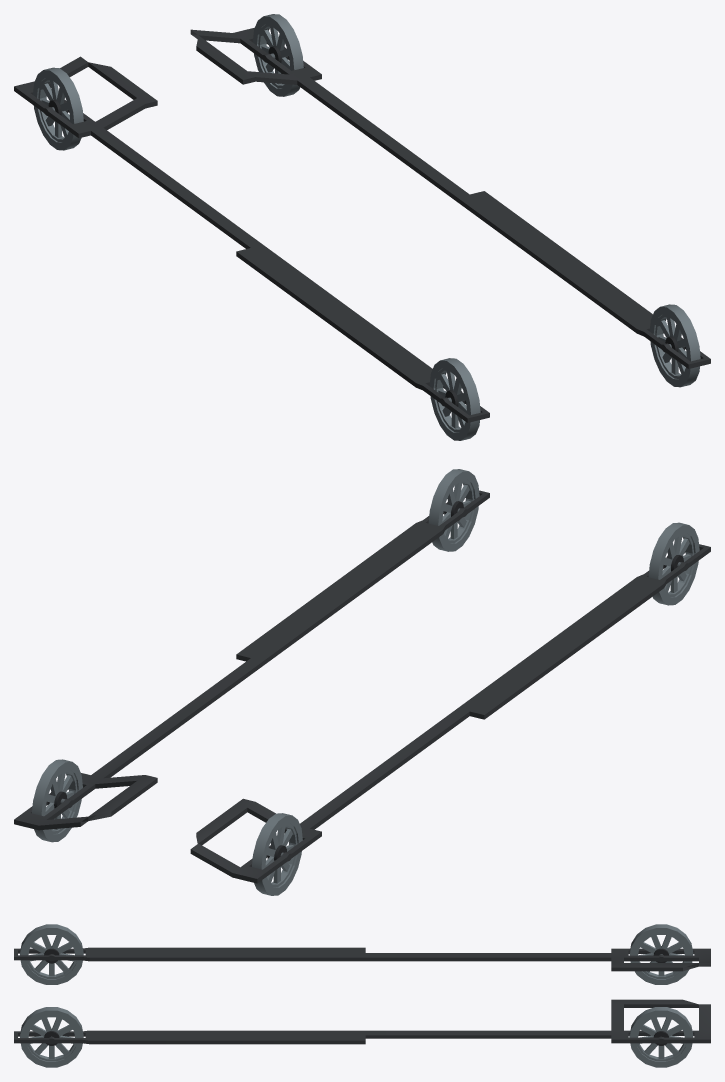
The model's file is platform.fbx.
The picture shows the model from 3 angles, top to bottom: view 1: azimuth 30°, elevation 25°; view 2: azimuth 150°, elevation 25°; view 3: azimuth 270°, elevation 25°; orthographic projection. The views are drawn at different scales.
Parts seen in each view (by area): view 1: platform, wheel2, wheel4, wheel1, wheel3; view 2: platform, wheel4, wheel2, wheel1, wheel3; view 3: platform, wheel2, wheel3, wheel4, wheel1.
Boxes of the visible parts, x1,y1,x2,y2 form: platform: (14, 27, 710, 422); wheel2: (429, 358, 480, 440); wheel4: (649, 304, 700, 387); wheel1: (33, 67, 83, 150); wheel3: (253, 14, 303, 96); platform: (14, 490, 710, 883); wheel4: (428, 469, 479, 551); wheel2: (648, 522, 699, 605); wheel1: (252, 813, 302, 895); wheel3: (32, 759, 82, 842); platform: (14, 947, 710, 1044); wheel2: (20, 924, 83, 984); wheel3: (629, 1007, 693, 1067); wheel4: (20, 1007, 83, 1067); wheel1: (629, 924, 693, 984).
Size of the model in its own units: 517 by 148 by 1636.
Materials: 1 (1 with a texture image).
